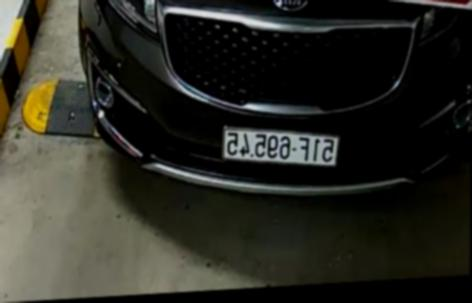License_Plate: (212, 122, 349, 168)
